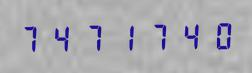four: (48, 21, 78, 53), (172, 19, 202, 51)
one: (110, 20, 140, 52)
seven: (17, 21, 47, 54), (79, 20, 109, 53), (141, 19, 171, 52)
zero: (203, 18, 233, 51)
